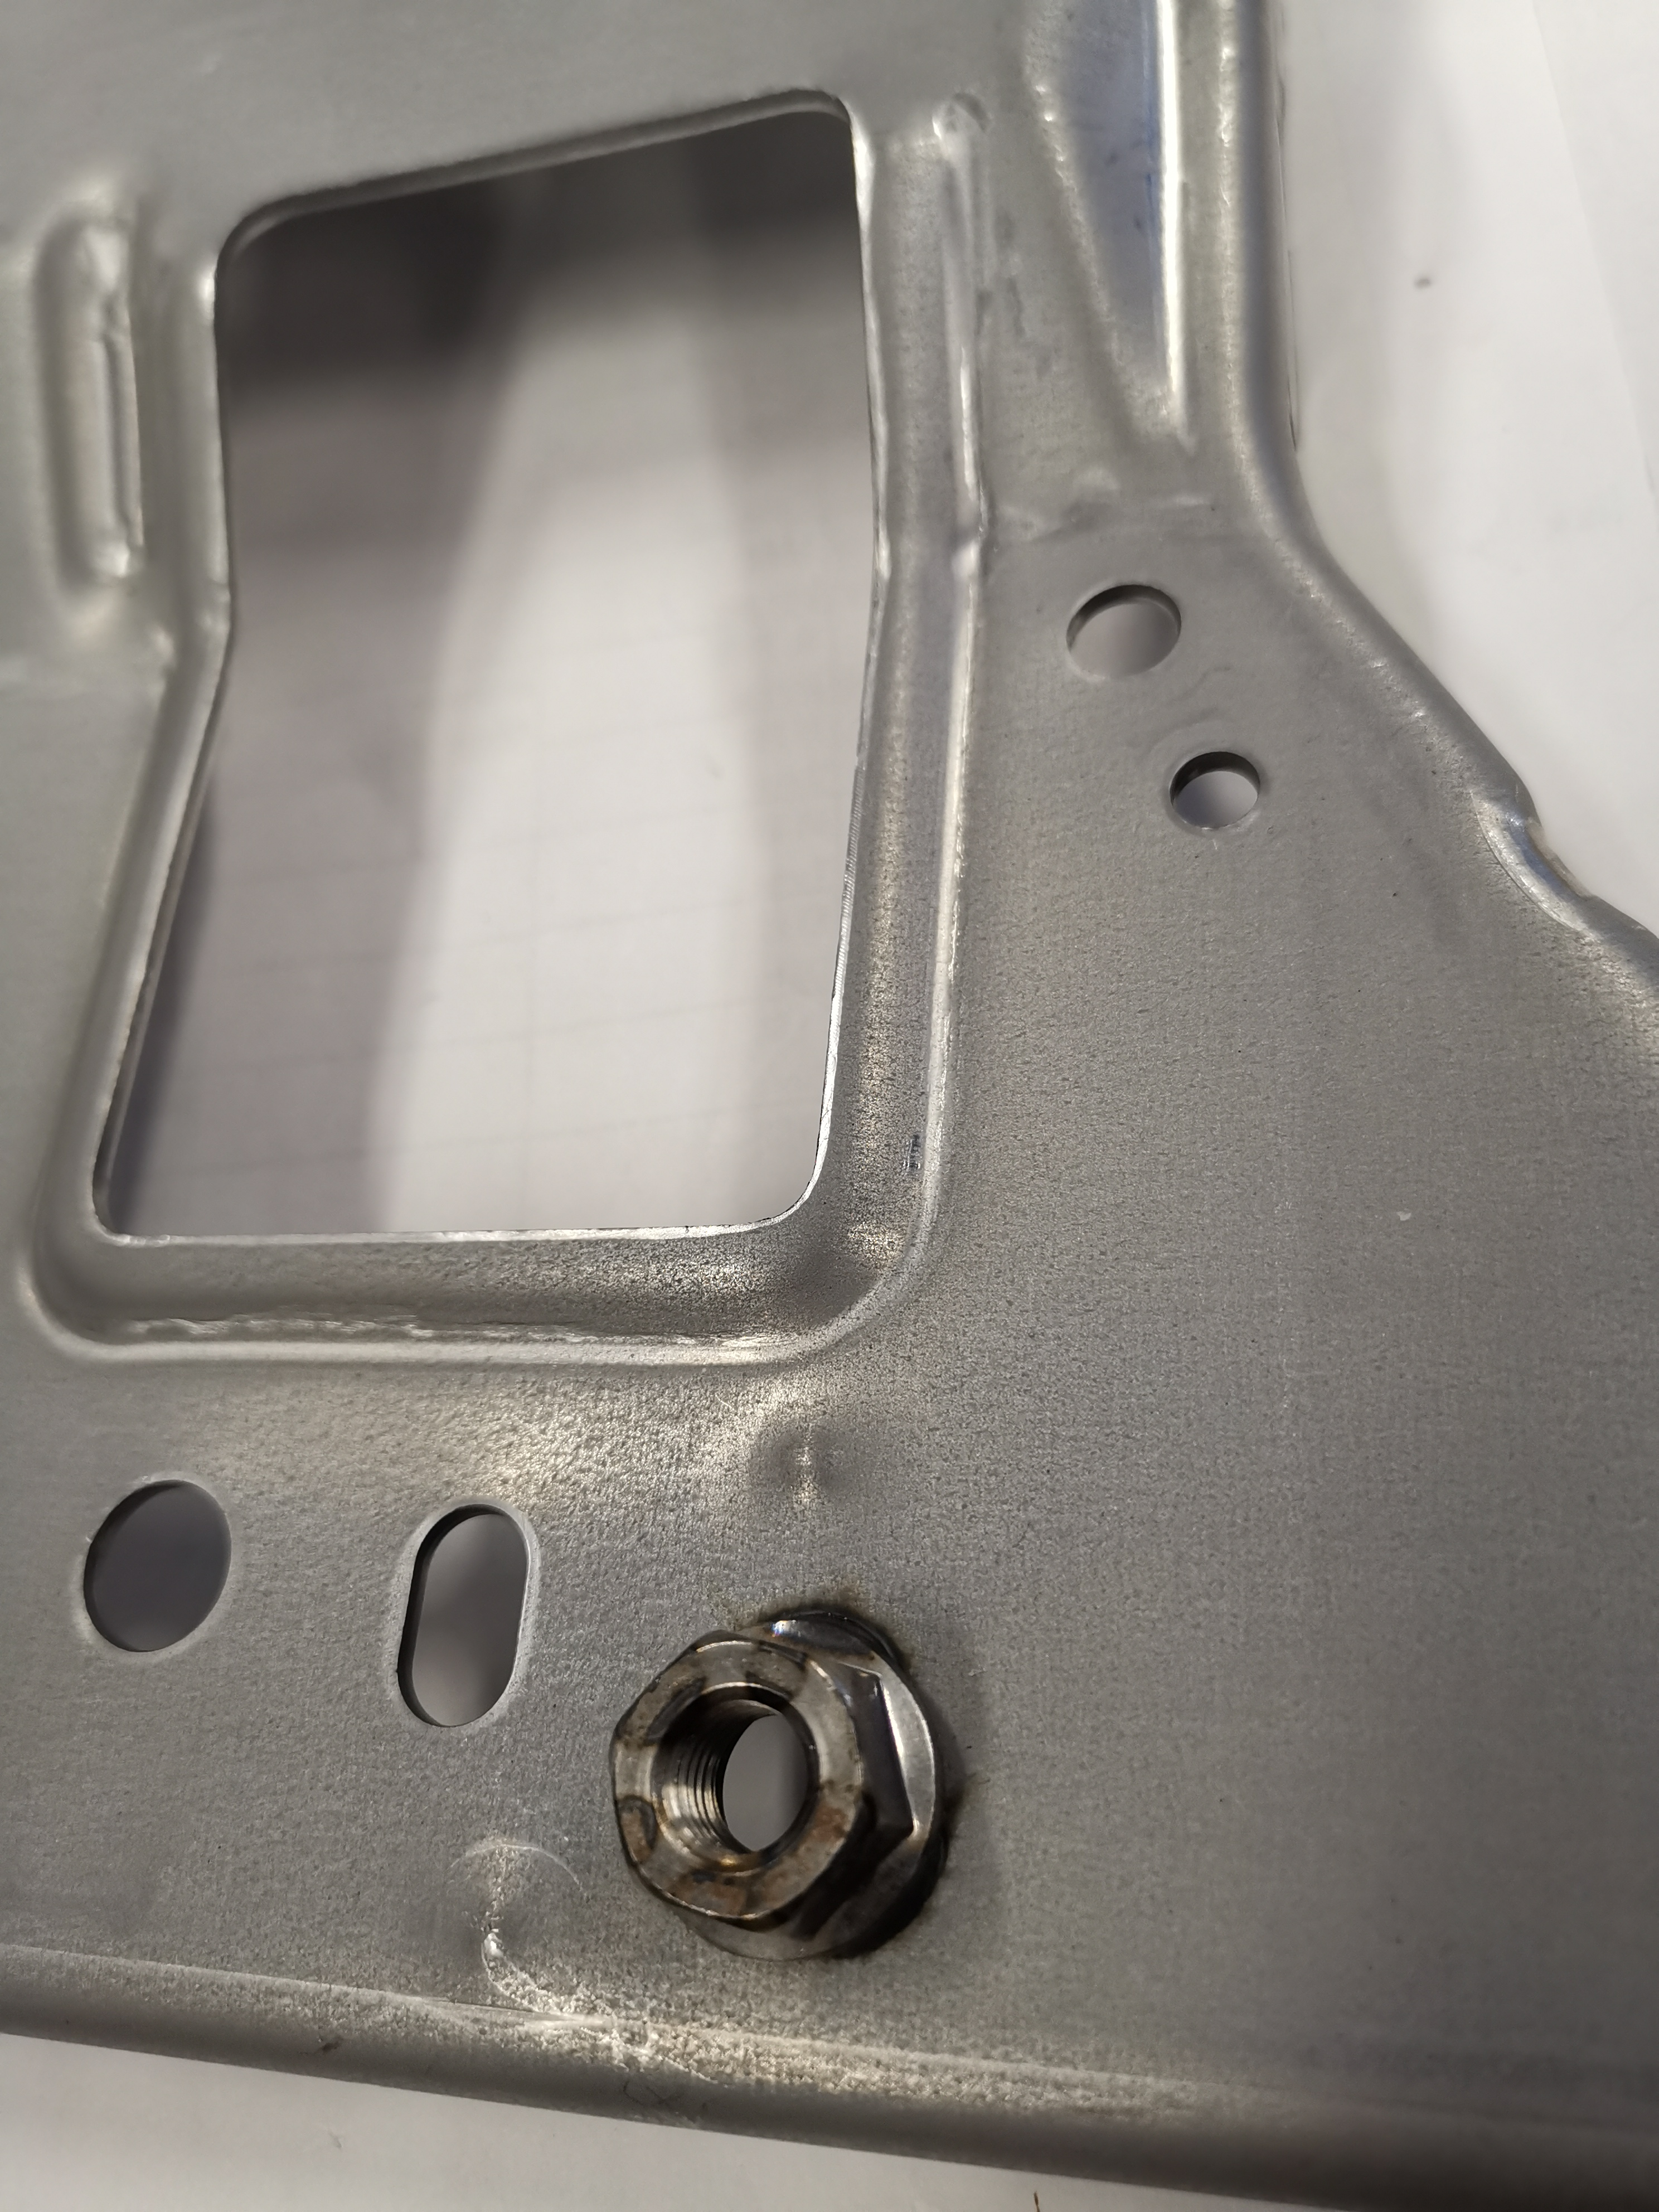dog: (603, 1595, 958, 1972)
